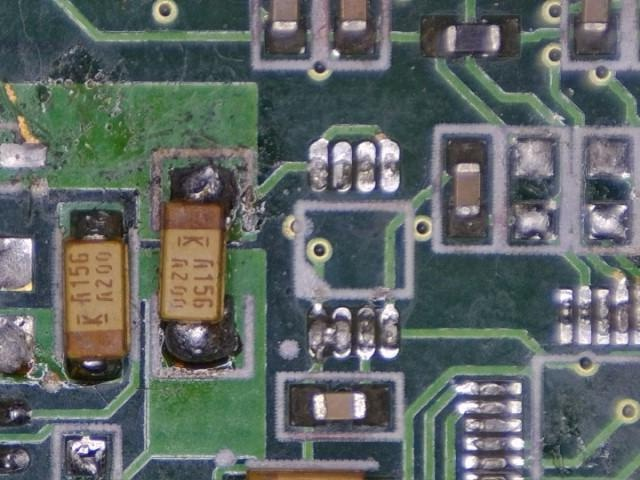pcb_defect: (308, 303, 352, 364)
